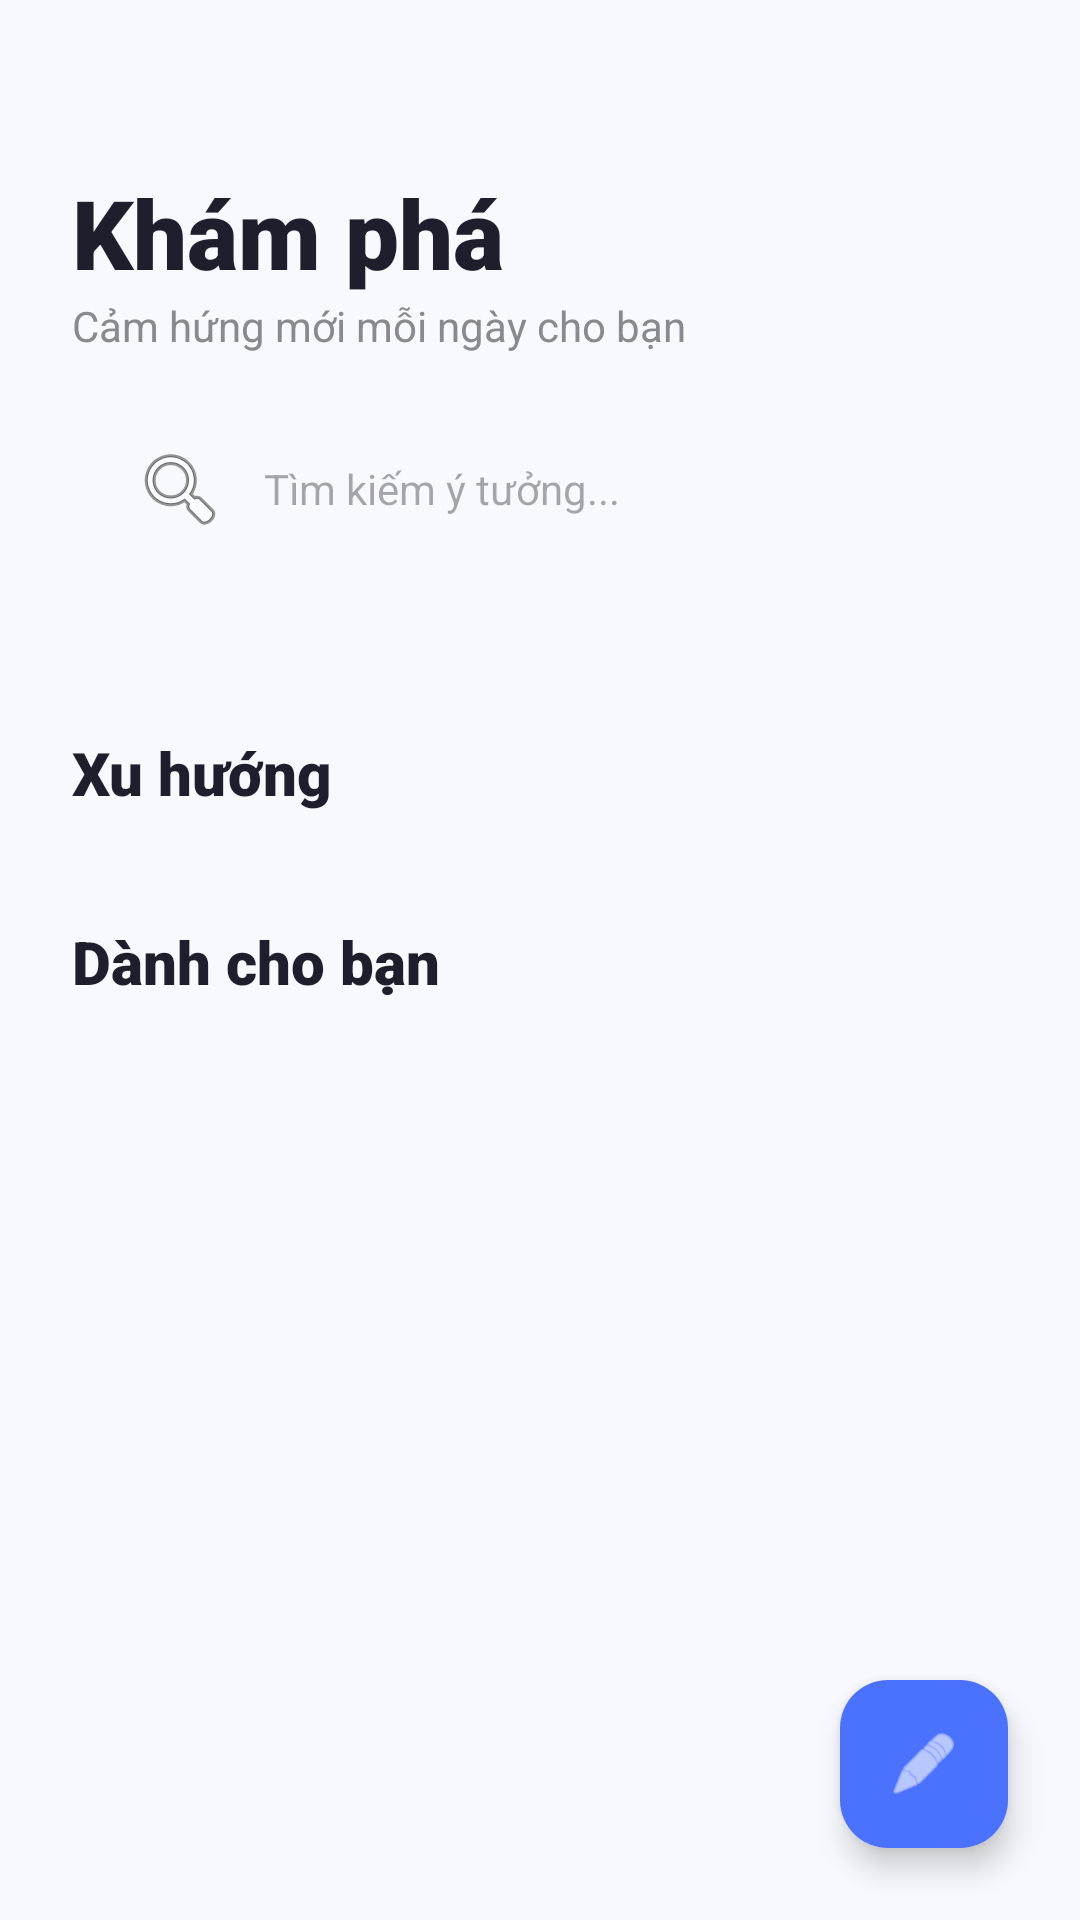

Locate icon controls on the screen. Image size 1080*1920, boxes as box(x1, y1, x2, y2).
edit: box(840, 1680, 1008, 1848)
